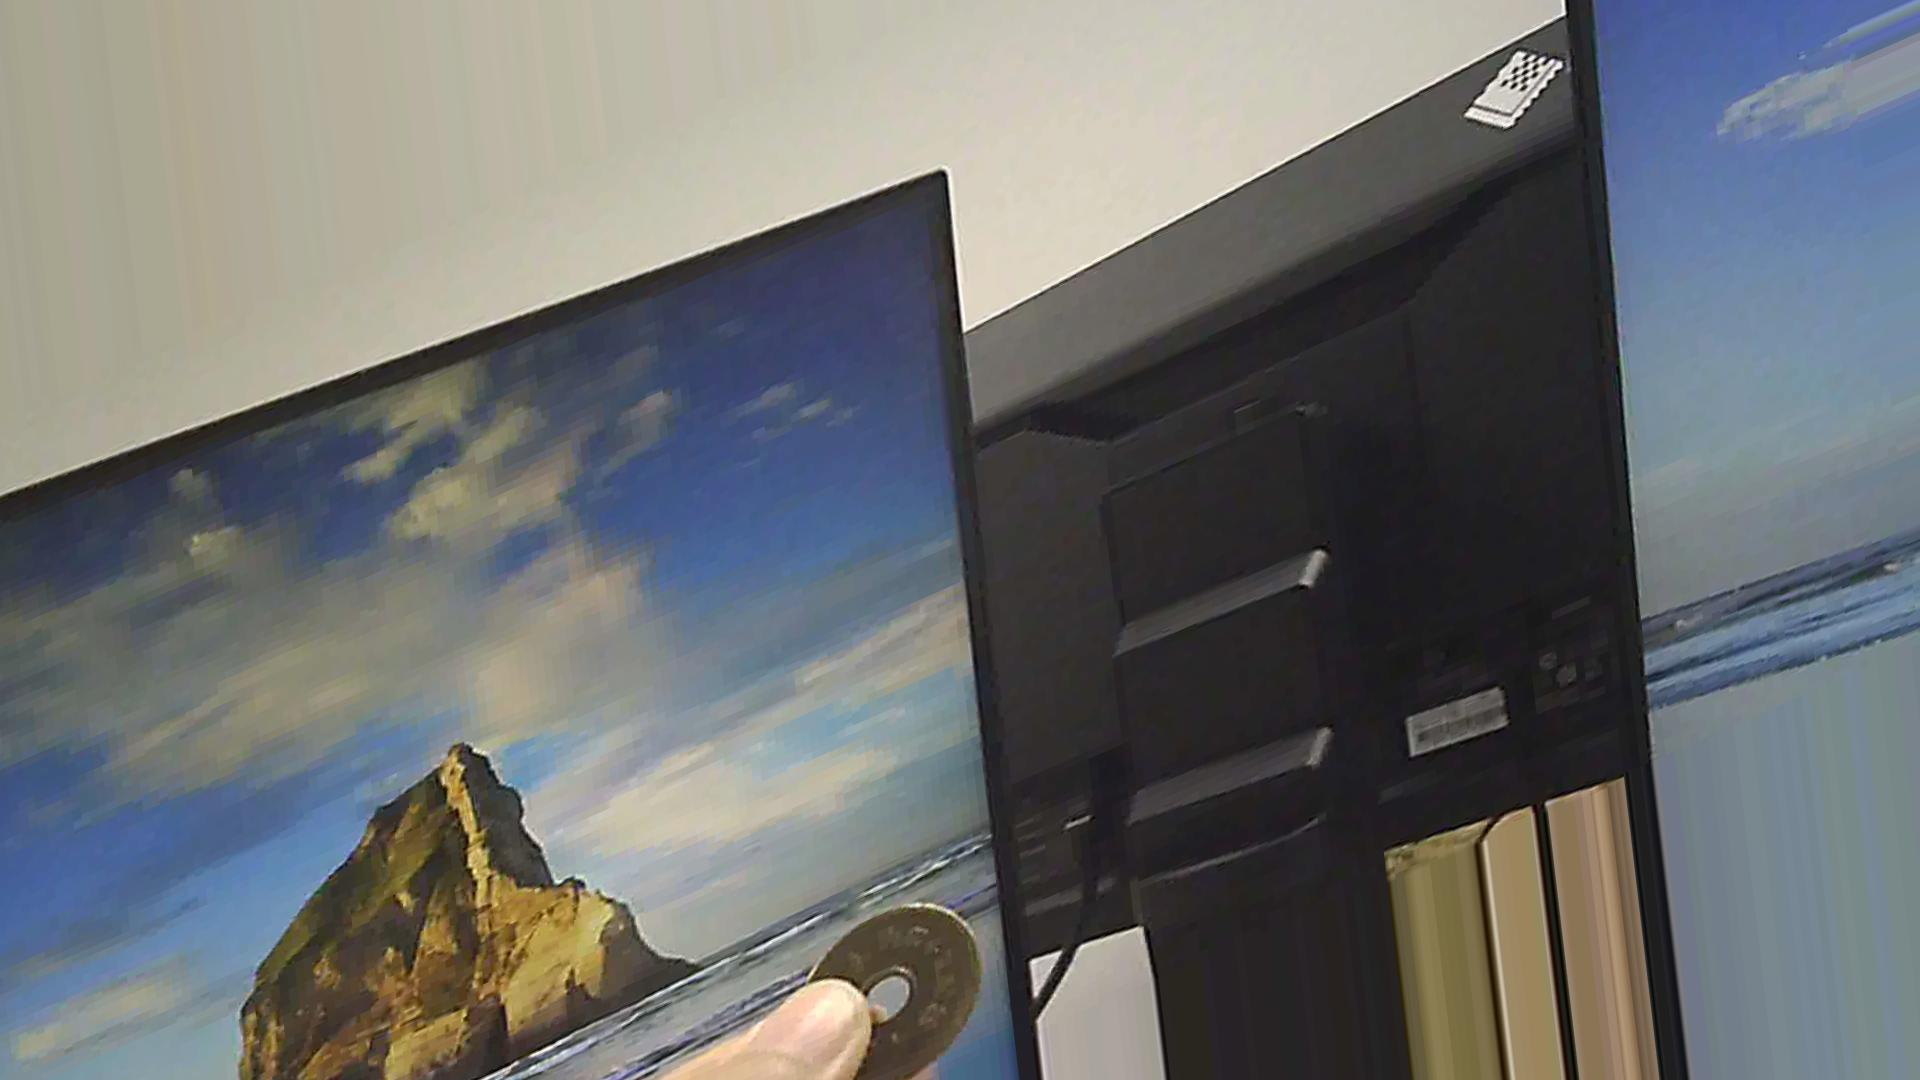5 Yen: (800, 901, 986, 1079)
